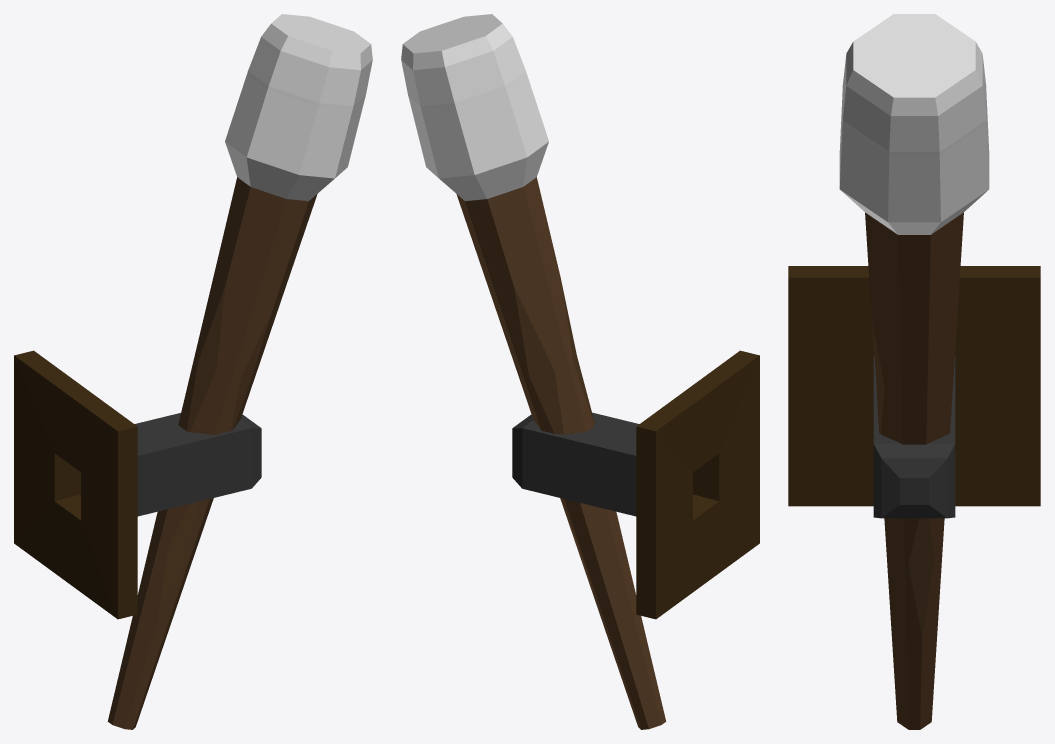
Rendered from Torch_var_01.fbx.
The picture shows the model from 3 angles, left to right: view 1: azimuth 30°, elevation 25°; view 2: azimuth 150°, elevation 25°; view 3: azimuth 270°, elevation 25°; orthographic projection. The views are drawn at different scales.
Visible parts, largest first — view 1: Torch_var_01, Torch_Holder; view 2: Torch_var_01, Torch_Holder; view 3: Torch_var_01, Torch_Holder.
Boxes of the visible parts, <box> form: Torch_var_01: <box>107,14,372,729</box>; Torch_Holder: <box>14,350,261,619</box>; Torch_var_01: <box>401,14,666,729</box>; Torch_Holder: <box>512,350,759,619</box>; Torch_var_01: <box>839,14,989,729</box>; Torch_Holder: <box>788,266,1040,518</box>.
Size of the model in its own units: 59.01 by 125 by 35.69.
